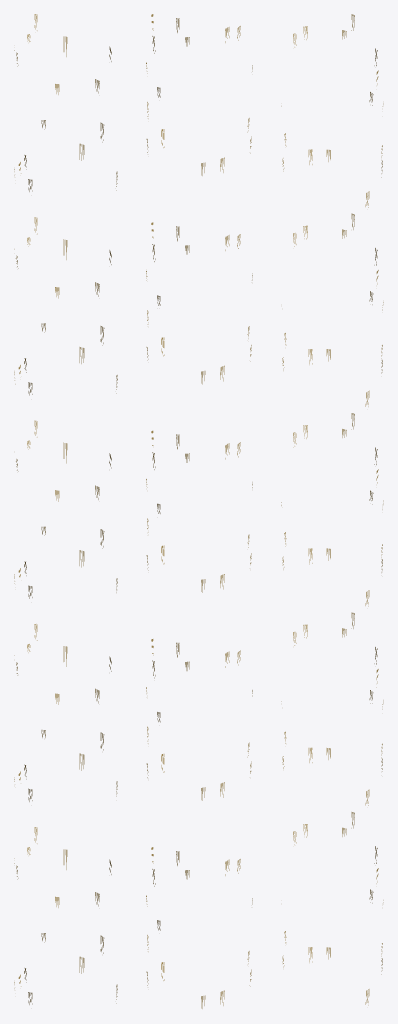
Rendered from Circle4Glow.obj.
3 renders of one model, left to right at view 1: azimuth 30°, elevation 25°; view 2: azimuth 150°, elevation 25°; view 3: azimuth 330°, elevation 25°, orthographic. The views are drawn at different scales.
Visible parts, largest first — view 1: Circle4Glow; view 2: Circle4Glow; view 3: Circle4Glow.
Part boxes in pixels (x1,y1,x2,y2): Circle4Glow: (14,14,117,1004); Circle4Glow: (146,14,252,1008); Circle4Glow: (281,14,383,1005).
Size of the model in its own units: 32.52 by 337 by 26.02.
Materials: 1 (1 with a texture image).
